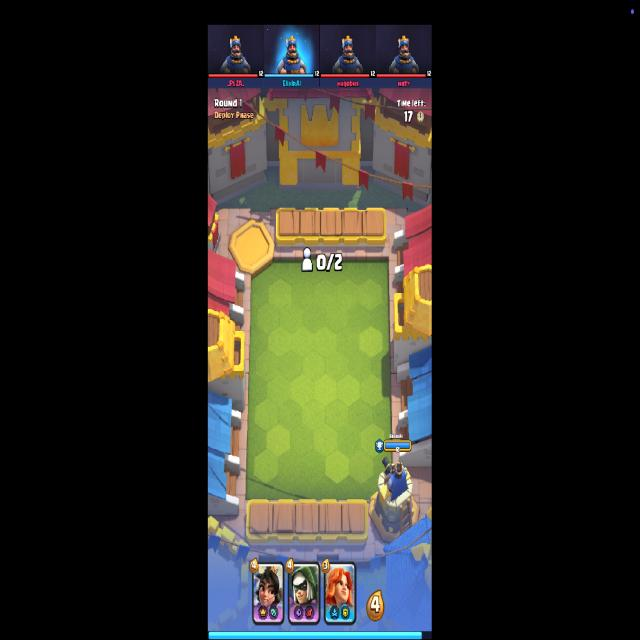card_bandit: (288, 561, 320, 625)
card_princess: (252, 562, 284, 624)
card_valkyrie: (324, 562, 356, 624)
